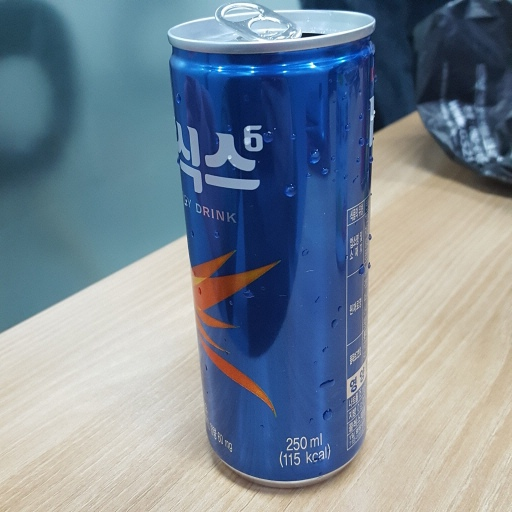Metal_0: (163, 1, 378, 491)
